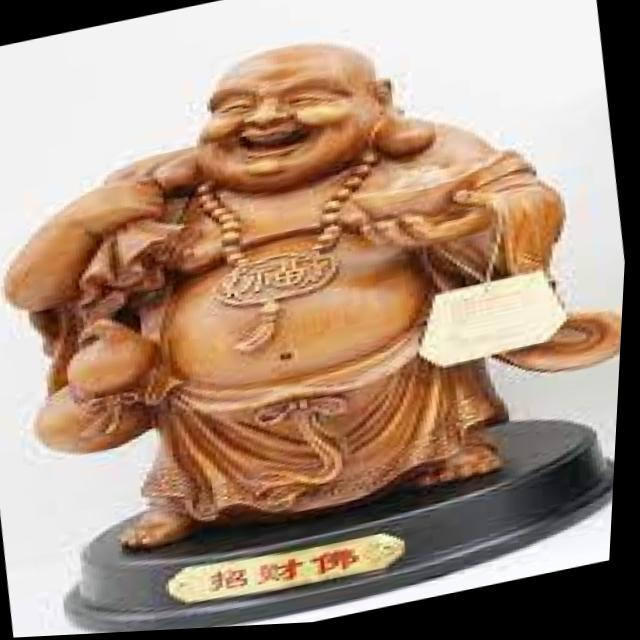Smiling Buddha: (0, 0, 571, 565)
